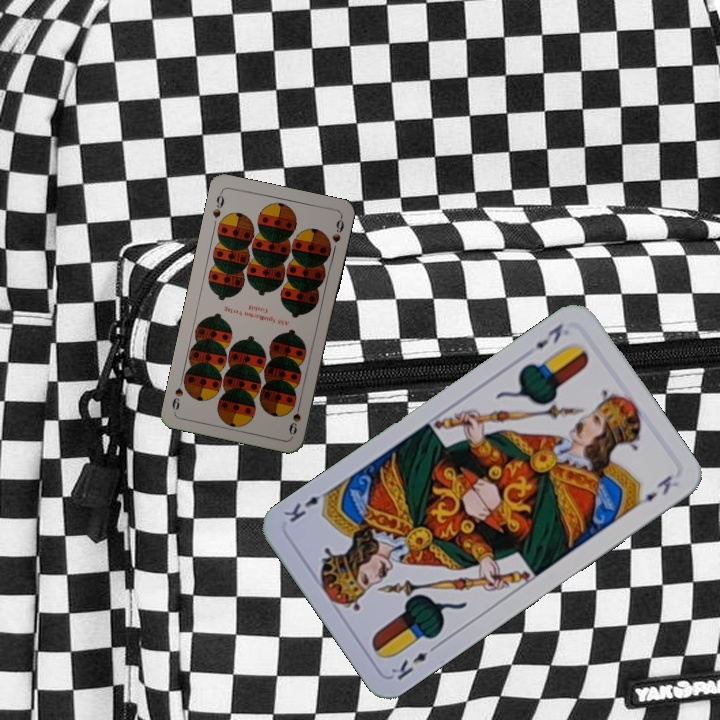EK: (387, 640, 441, 683), (531, 319, 566, 352)
S9: (285, 397, 303, 437), (208, 188, 227, 220)
